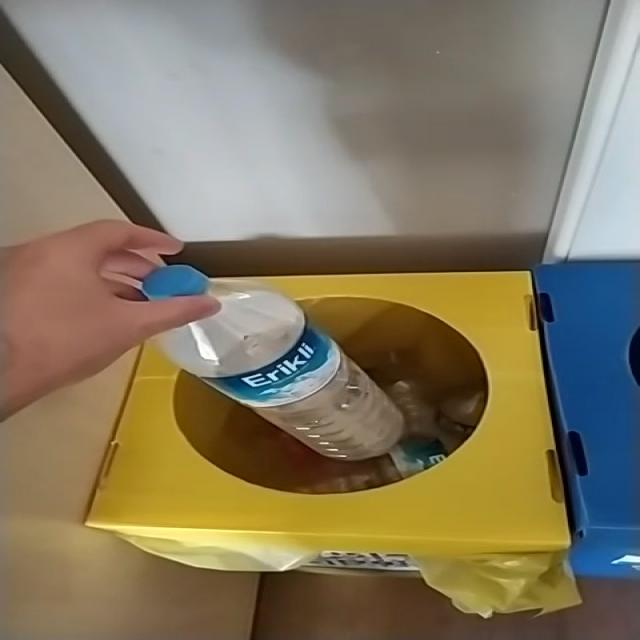plastic: (141, 265, 404, 461)
